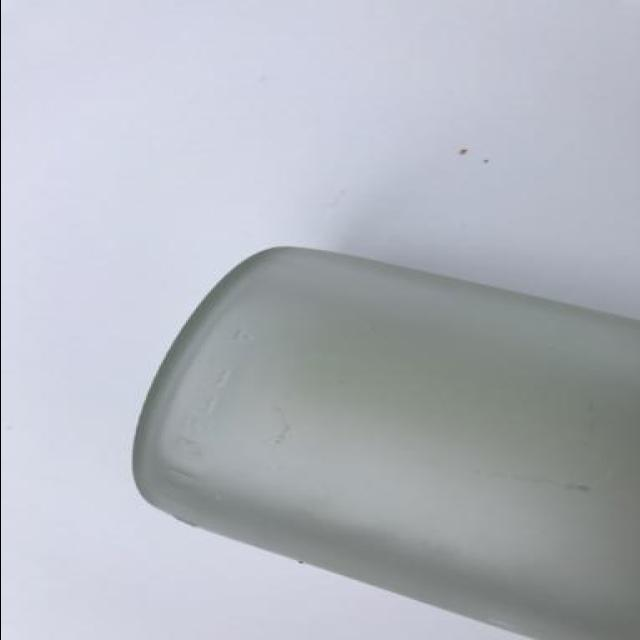glass: (121, 240, 640, 640)
